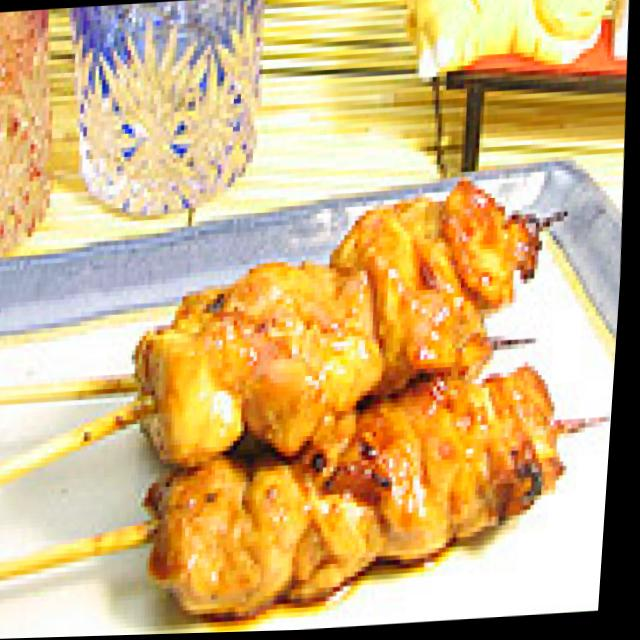烧串烤肉: (0, 159, 631, 640)
